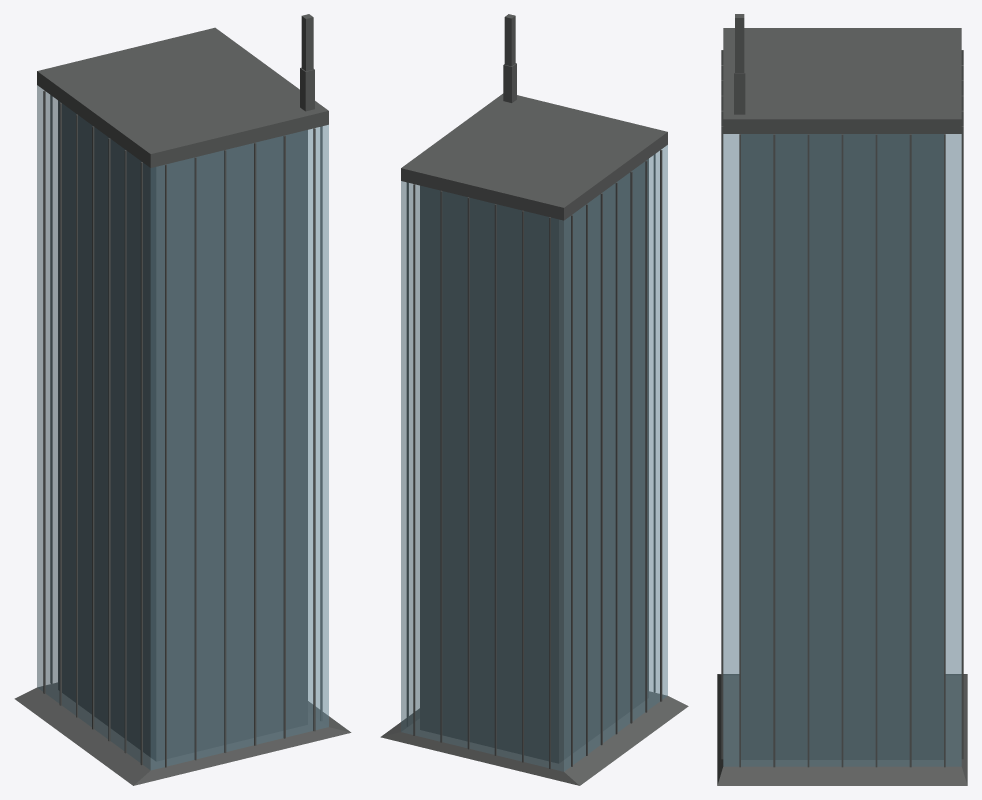
File: Skyscrapers(1).glb
3 renders of one model, left to right at view 1: azimuth 30°, elevation 25°; view 2: azimuth 150°, elevation 25°; view 3: azimuth 270°, elevation 25°, orthographic. The views are drawn at different scales.
Parts seen in each view (by area): view 1: Root; view 2: Root; view 3: Root.
Part boxes in pixels (left/top/right/bottom): Root: left=14, top=14, right=351, bottom=785; Root: left=380, top=14, right=688, bottom=785; Root: left=717, top=14, right=967, bottom=785.
Size of the model in its own units: 7.72 by 24.21 by 7.29.
